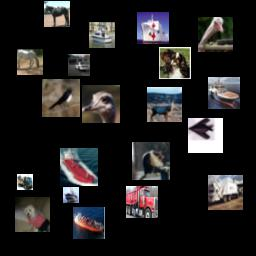airplane: (188, 118, 223, 153)
automobile: (68, 54, 90, 76)
bird: (82, 85, 120, 123), (42, 79, 80, 117), (198, 17, 233, 52)
cat: (132, 142, 170, 180)
deer: (147, 87, 182, 122)
dog: (15, 197, 50, 232), (159, 47, 191, 79)
ship: (60, 148, 98, 186), (73, 207, 105, 239), (208, 77, 240, 109), (137, 12, 169, 44), (89, 22, 115, 48), (63, 187, 79, 203)
truck: (208, 175, 243, 210), (126, 186, 158, 218), (17, 174, 33, 190)
